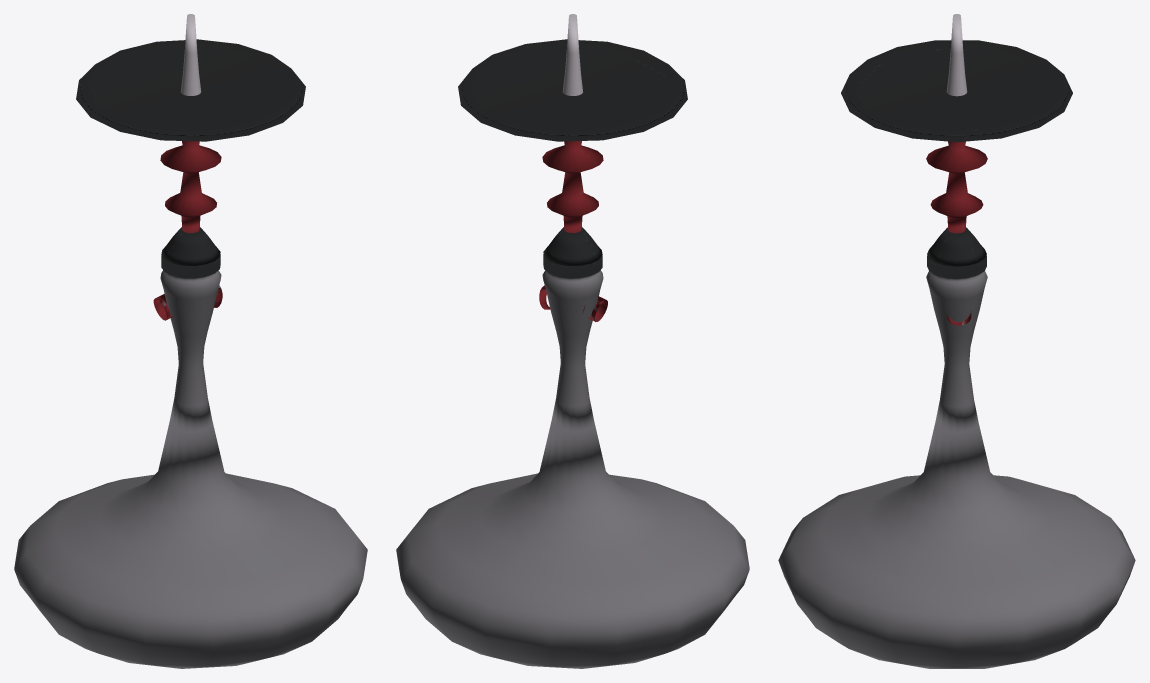
Rendered from cachimba.fbx.
3 views of the same model, side by side, from view 1: azimuth 30°, elevation 25°; view 2: azimuth 150°, elevation 25°; view 3: azimuth 270°, elevation 25° (orthographic).
Visible parts, largest first — view 1: Cylinder.003; view 2: Cylinder.003; view 3: Cylinder.003.
Part boxes in pixels (x1=…): Cylinder.003: x1=14, y1=14, x2=367, y2=668; Cylinder.003: x1=396, y1=14, x2=749, y2=668; Cylinder.003: x1=778, y1=14, x2=1135, y2=668.
Bounding box in the file's own units: 33.93 × 62.34 × 33.93.
Materials: 1 (1 with a texture image).
